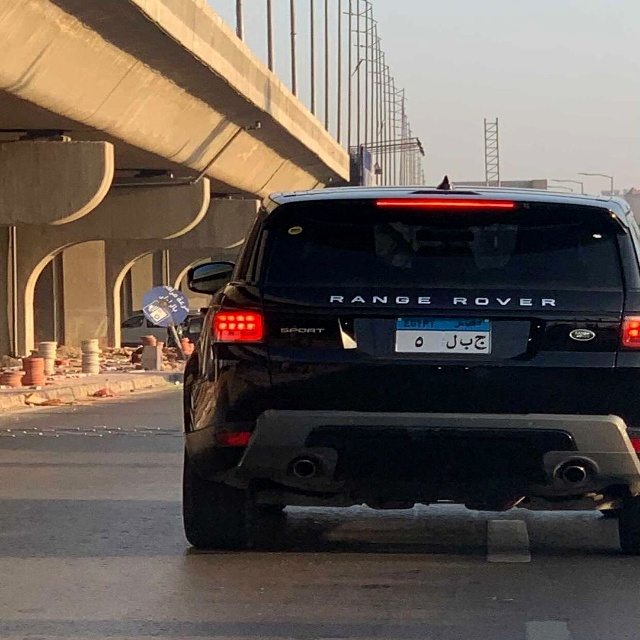License Plate: (393, 316, 494, 355)
